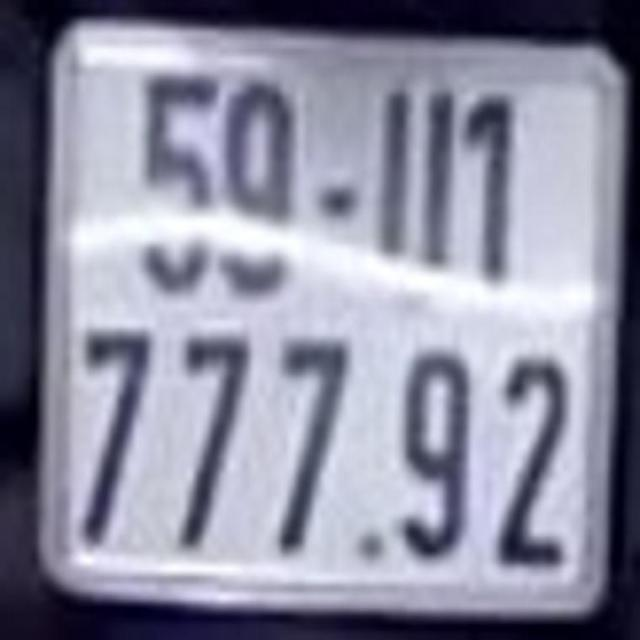1: (462, 90, 526, 324)
2: (501, 350, 568, 572)
5: (140, 70, 215, 292)
7: (274, 333, 354, 550), (80, 326, 149, 548), (186, 329, 250, 546)
9: (220, 79, 302, 292), (404, 346, 477, 561)
U: (380, 84, 456, 319)
